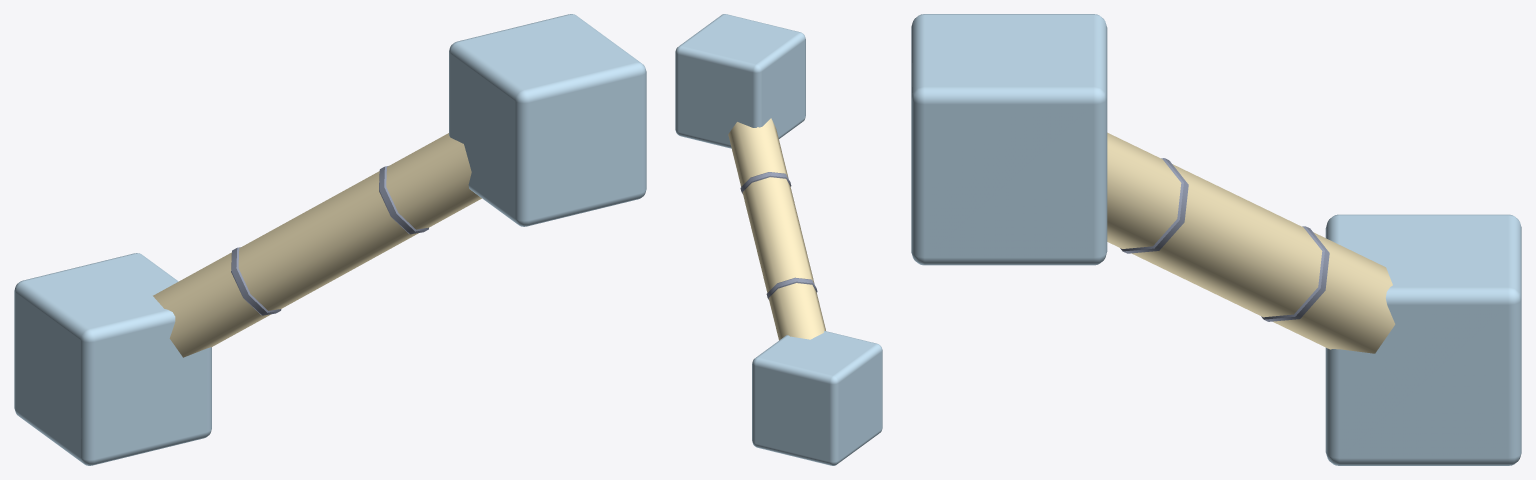
The model's file is R4C_STRUT_DIAG_3D.glb.
3 renders of one model, left to right at view 1: azimuth 30°, elevation 25°; view 2: azimuth 150°, elevation 25°; view 3: azimuth 270°, elevation 25°, orthographic. The views are drawn at different scales.
Visible parts, largest first — view 1: R4C_STRUT_DIAG_3D; view 2: R4C_STRUT_DIAG_3D; view 3: R4C_STRUT_DIAG_3D.
Part boxes in pixels (<box>): R4C_STRUT_DIAG_3D: <box>14,14,646,465</box>; R4C_STRUT_DIAG_3D: <box>675,14,882,465</box>; R4C_STRUT_DIAG_3D: <box>911,14,1521,465</box>.
Bounding box in the file's own units: 1.62 × 1.62 × 1.62.
